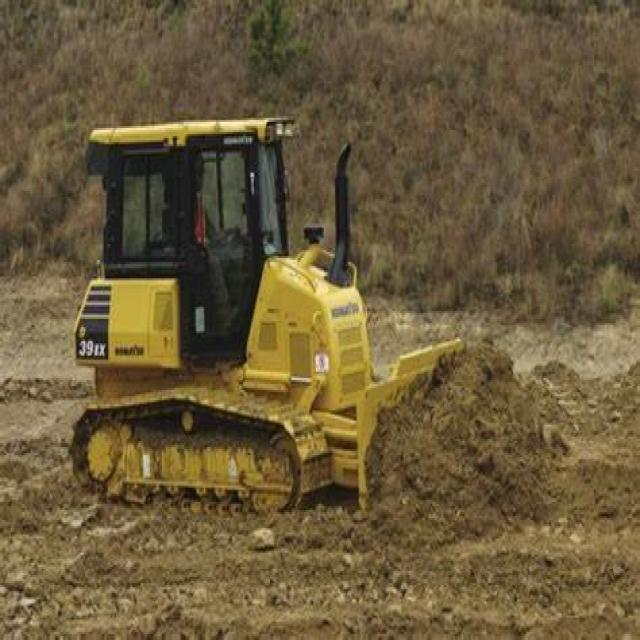buldozerpayloadergrader: (49, 108, 490, 540)
